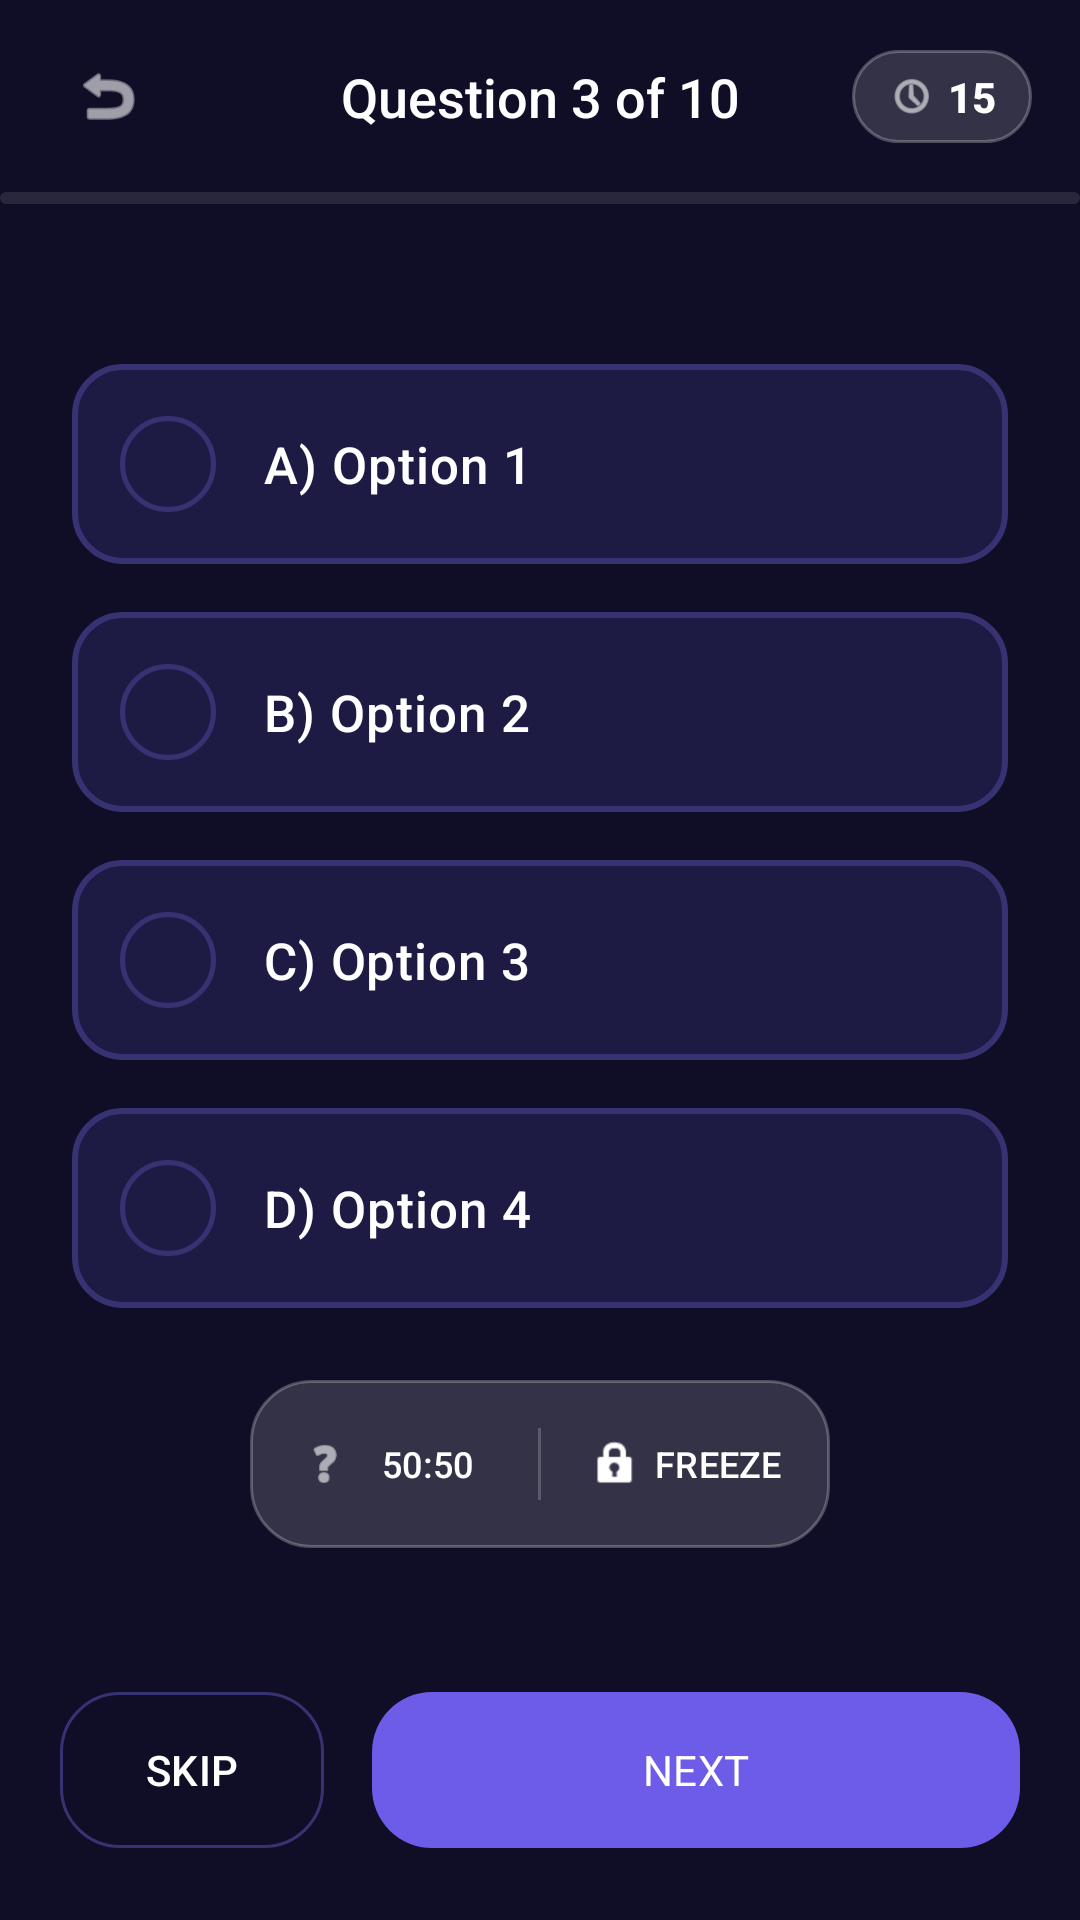

Named icons in this screenshot (1080×1920) and their bounding boxes, detection(x1, y1, x2, y2):
recent history: detection(894, 79, 929, 114)
revert: detection(83, 73, 135, 120)
